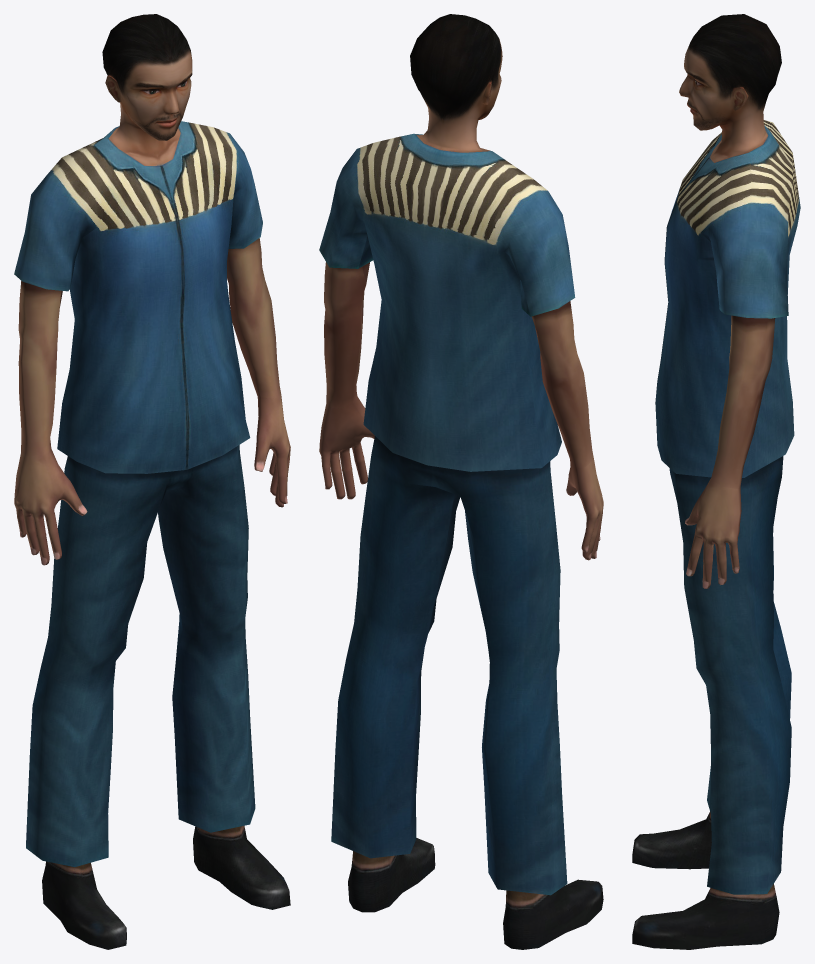
The model's file is criminal_001.obj.
3 views of the same model, side by side, from view 1: azimuth 30°, elevation 25°; view 2: azimuth 150°, elevation 25°; view 3: azimuth 270°, elevation 25° (orthographic). The views are drawn at different scales.
Parts seen in each view (by area): view 1: Criminal_001; view 2: Criminal_001; view 3: Criminal_001.
Boxes of the visible parts, <box> form: Criminal_001: <box>14,14,290,949</box>; Criminal_001: <box>319,14,603,949</box>; Criminal_001: <box>632,14,800,949</box>.
Bounding box in the file's own units: 55.45 × 172 × 29.74.
1 material, 1 textured.
